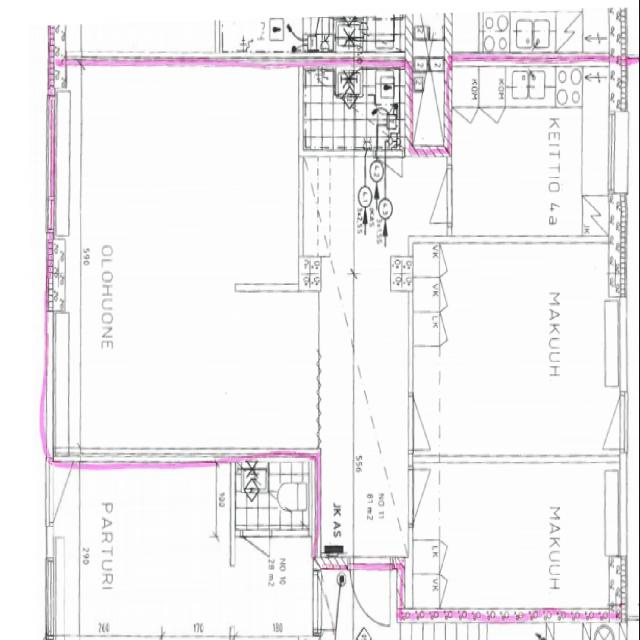door: (349, 556, 389, 630), (407, 468, 449, 524), (584, 396, 626, 449), (407, 396, 448, 449), (411, 169, 451, 222), (374, 150, 402, 199)
